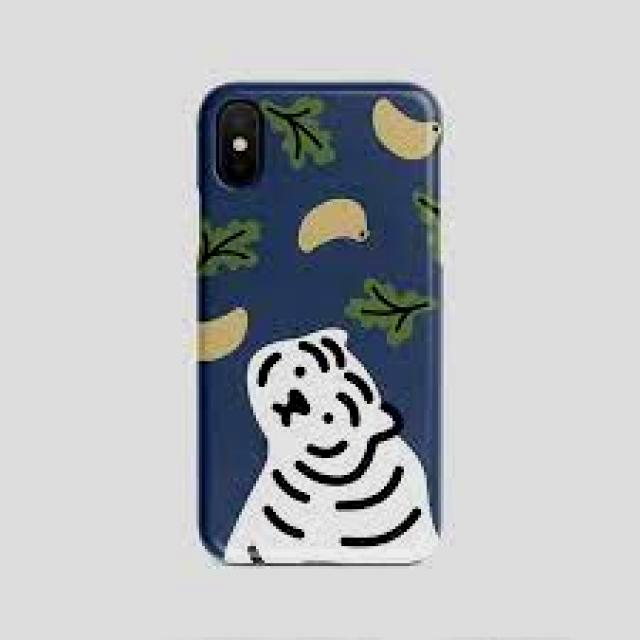lens: (219, 96, 265, 190)
phone: (186, 74, 447, 568)
